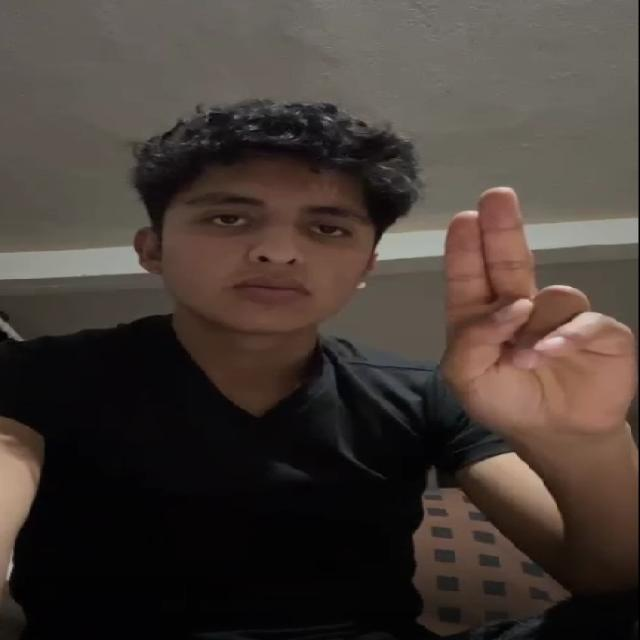U: (415, 184, 637, 457)
